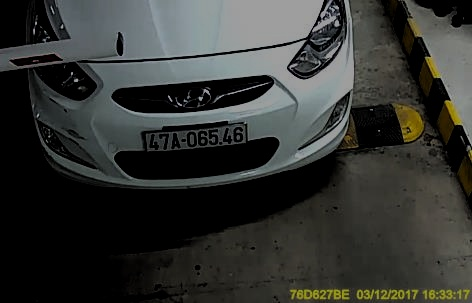plate: (138, 124, 252, 153)
